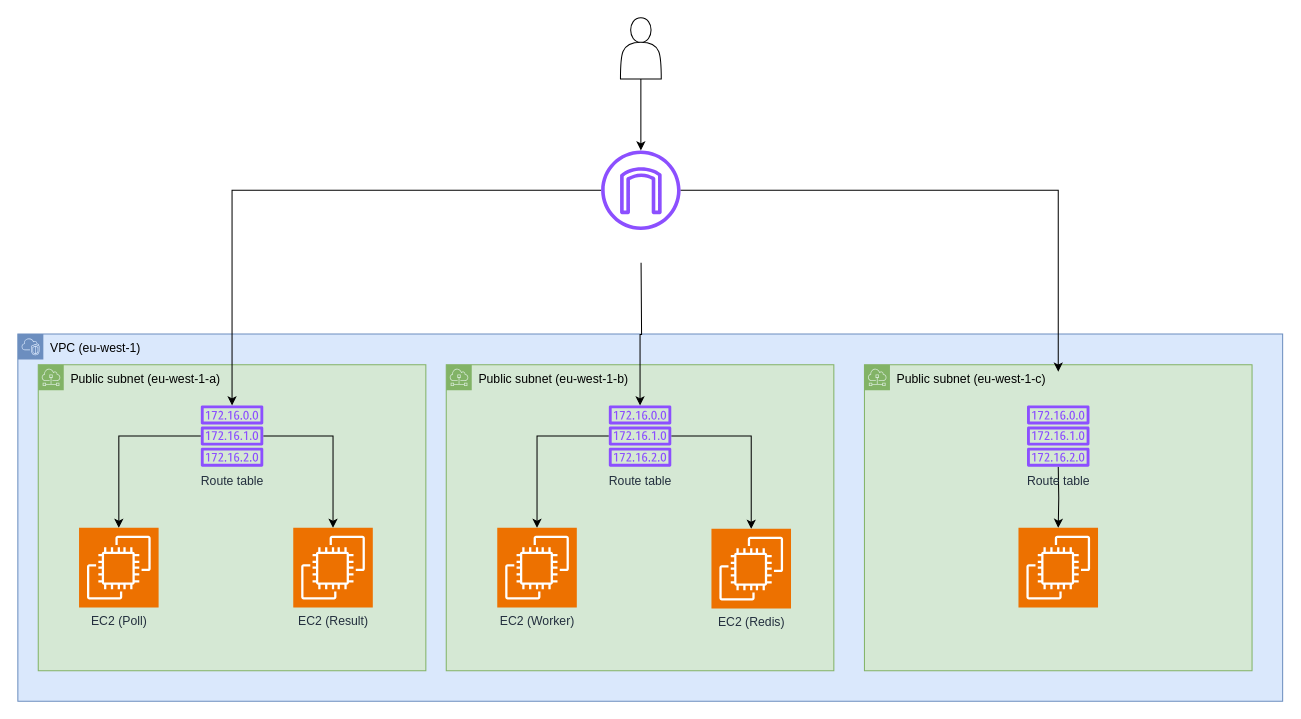
Some shapes in this 1301 by 719 pixel diagram are drawn without their labels. The shapes that lost their labels are listed below. From the top down, each one's centre as x and y in pixels, then its label:
At (640,190): "Internet gateway".
At (1057,567): "EC2 (PostgreSQL)".
